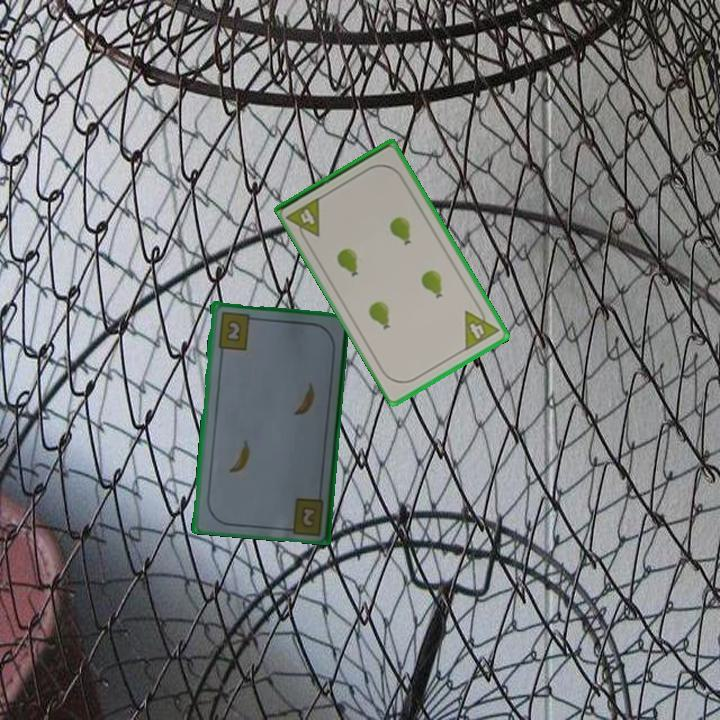2b: (215, 308, 258, 352), (298, 503, 319, 528)
4p: (461, 300, 502, 353), (283, 193, 324, 245)
